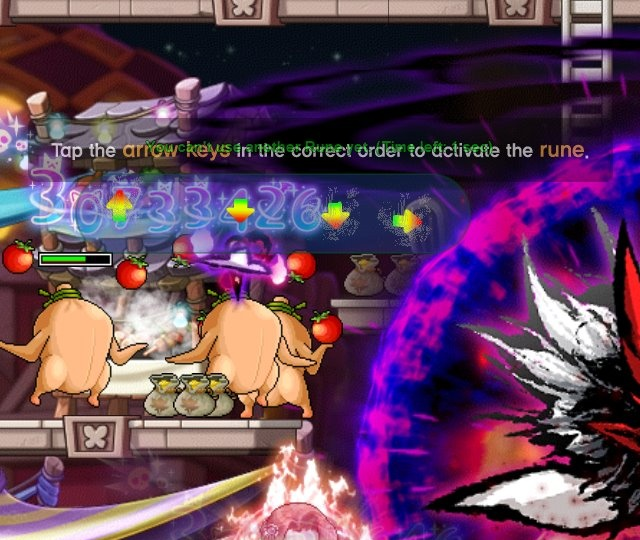rune_box: (67, 167, 480, 261)
